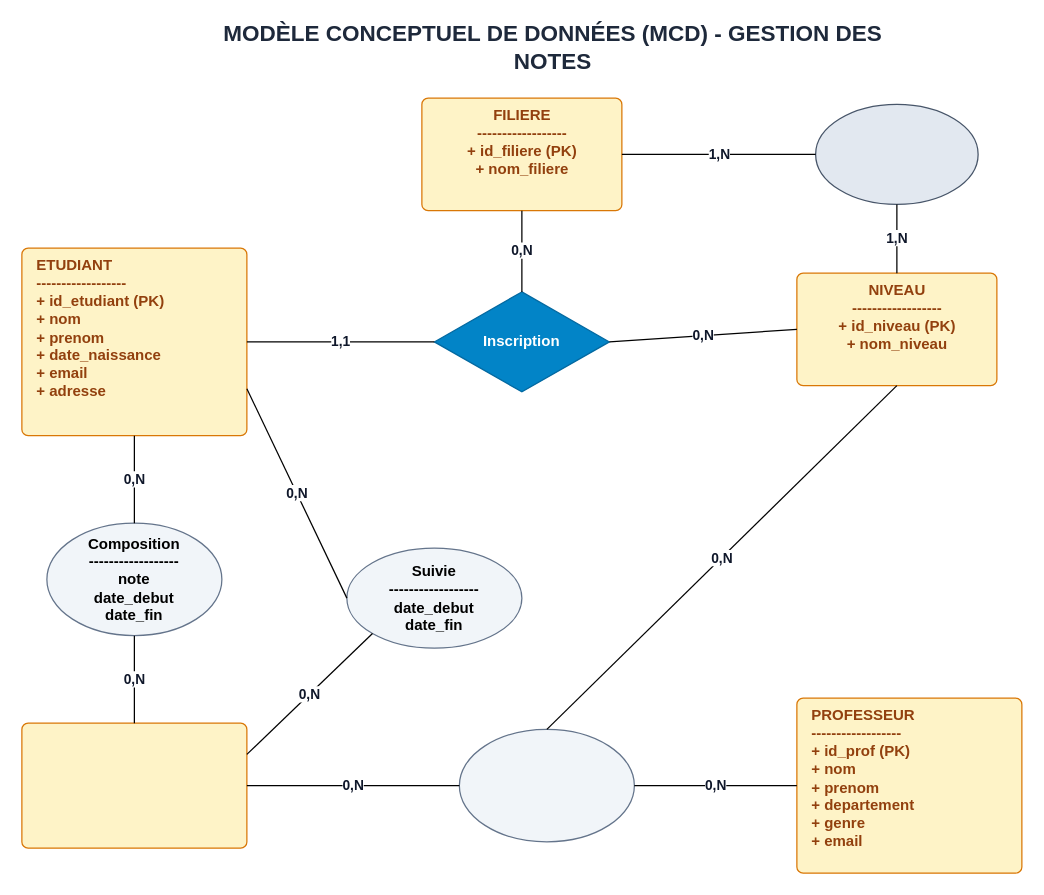
The diagram is 1044 pixels wide and 895 high, and some of its shapes have lost their labels. The shapes that lost their labels are listed below. From the top down, each one's centre as x and y in pixels, then its label:
At (x=896, y=153): "Appartenance".
At (x=134, y=785): "MATIERE ------------------ + id_matiere (PK) + nom_matiere + coefficient".
At (x=546, y=785): "Enseignement ------------------ date_debut date_fin".
